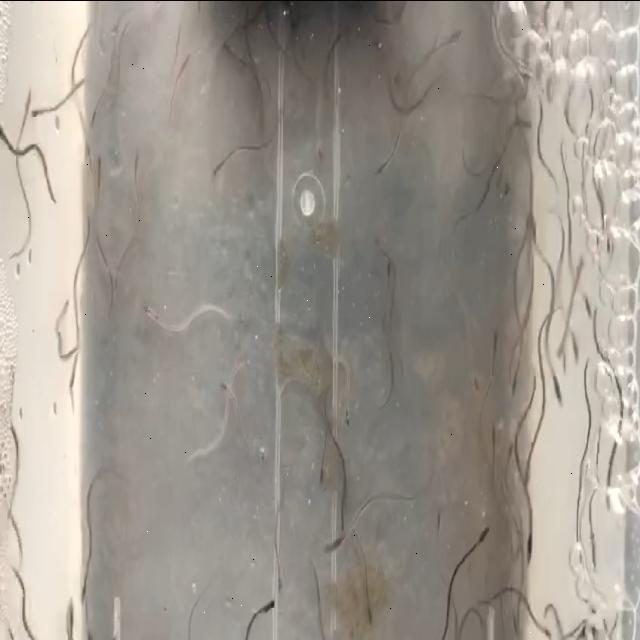active_glass_eel: (201, 146, 233, 190), (427, 497, 451, 549), (354, 587, 381, 633), (320, 528, 346, 574), (520, 524, 540, 578), (213, 364, 241, 402), (442, 20, 463, 66), (486, 412, 508, 448), (262, 577, 280, 619), (137, 283, 162, 313), (508, 366, 526, 405), (568, 328, 586, 364), (22, 74, 42, 106), (180, 34, 193, 80), (366, 156, 388, 182), (502, 438, 516, 478), (30, 96, 52, 121), (476, 519, 491, 550), (132, 140, 146, 173), (584, 291, 600, 319), (60, 280, 74, 310), (312, 462, 328, 487), (82, 141, 98, 163), (550, 383, 566, 405), (487, 330, 497, 364), (76, 584, 90, 608), (84, 107, 102, 125), (312, 143, 328, 163), (520, 115, 534, 135), (520, 468, 534, 487), (379, 266, 388, 282)
